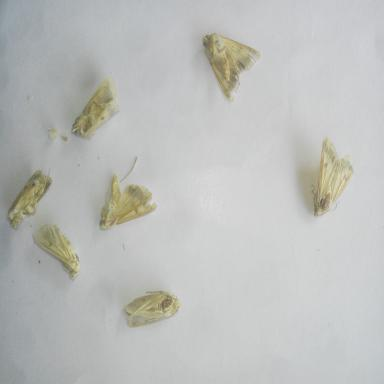abw: (200, 28, 263, 106), (306, 134, 357, 220), (98, 170, 160, 234), (70, 72, 124, 143), (4, 164, 54, 233), (30, 222, 83, 281), (121, 286, 182, 332)
